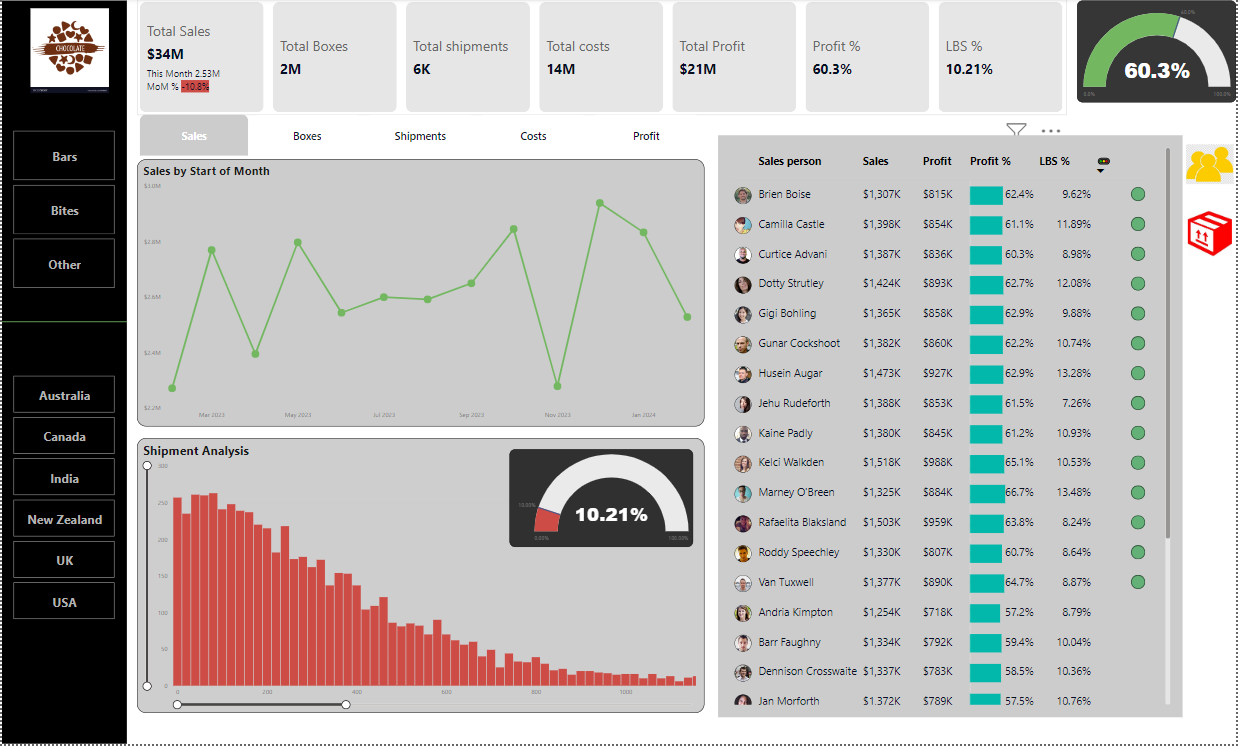

What the dashboard file says about the page in this screenshot:
{"tool":"powerbi","page":{"name":"Sales Report","canvas":[2150,1300],"ordinal":2},"visuals":[{"type":"shape","box":[0,4.4,217.8,1295.6],"z":0},{"type":"cardVisual","fields":{"Data":["_measures.Total Sales","_measures.Total Boxes","_measures.Total shipments","_measures.Total costs","_measures.Total Profit","_measures.Profit %","_measures.LBS %"]},"box":[235.1,2.3,1620.3,202.8],"z":1000},{"type":"gauge","fields":{"Y":["_measures.Profit %"]},"box":[1873.1,3.9,277.3,177.7],"z":2000},{"type":"image","box":[0,13.3,235.6,157.8],"z":3000},{"type":"lineChart","fields":{"Y":["_measures.Total Sales"],"Category":["calendar.Start of Month"]},"box":[235.1,281.2,988.8,465.6],"z":4000},{"type":"advancedSlicerVisual","fields":{"Values":["Measure selector.Measure selector"]},"box":[235.1,198.2,988.8,83],"z":5000},{"type":"clusteredColumnChart","title":"Shipment Analysis","fields":{"Category":["shipments.Boxes (bins)"],"Y":["_measures.Total shipments"]},"box":[235.1,767.5,988.8,479.4],"z":6000},{"type":"gauge","fields":{"Y":["_measures.LBS %"]},"box":[885.1,786,320.4,170.6],"z":7000},{"type":"tableEx","title":"People detail table","fields":{"Values":["people.Picture","people.Sales person","_measures.Total Sales","_measures.Total Profit","_measures.Profit %","_measures.LBS %","_measures.Profit Target Indicator"]},"box":[1248.9,240,808.9,1013.3],"z":8000},{"type":"image","title":"People Icon","box":[2057.8,240,93.3,100],"z":10000},{"type":"image","title":"Product Icon","box":[2057.8,366.7,93.3,88.9],"z":11000},{"type":"advancedSlicerVisual","fields":{"Values":["products.Category"]},"box":[15.6,226.7,186.7,286.7],"z":12000},{"type":"advancedSlicerVisual","fields":{"Values":["locations.Geo"]},"box":[15.6,653.3,186.7,437.8],"z":13000},{"type":"shape","box":[0,513.3,217.8,100],"z":14000}]}

Visuals, with their boxes in screenshot pixels (x1, y1, x2, y2), scaled from the page's 2150x1300 canvas onto the 1240x746 screenshot:
shape: region(0, 3, 126, 745)
cardVisual - _measures.Total Sales x _measures.Total Boxes: region(136, 1, 1070, 118)
gauge - _measures.Profit %: region(1080, 2, 1239, 104)
image: region(0, 8, 136, 98)
lineChart - _measures.Total Sales x calendar.Start of Month: region(136, 161, 706, 429)
advancedSlicerVisual - Measure selector.Measure selector: region(136, 114, 706, 161)
"Shipment Analysis" clusteredColumnChart: region(136, 440, 706, 716)
gauge - _measures.LBS %: region(510, 451, 695, 549)
"People detail table" tableEx: region(720, 138, 1187, 719)
"People Icon" image: region(1187, 138, 1239, 195)
"Product Icon" image: region(1187, 210, 1239, 261)
advancedSlicerVisual - products.Category: region(9, 130, 117, 295)
advancedSlicerVisual - locations.Geo: region(9, 375, 117, 626)
shape: region(0, 295, 126, 352)
